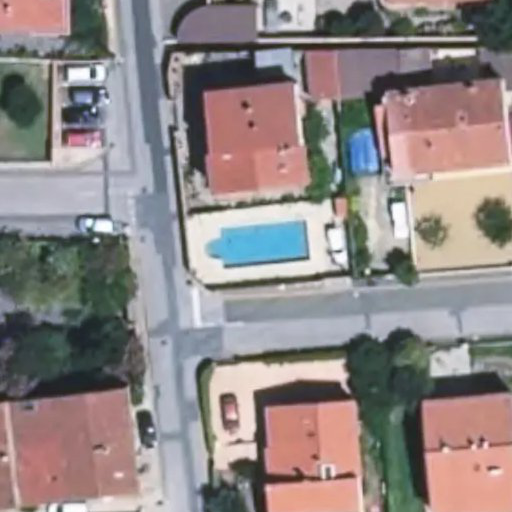pool: (201, 226, 308, 258)
